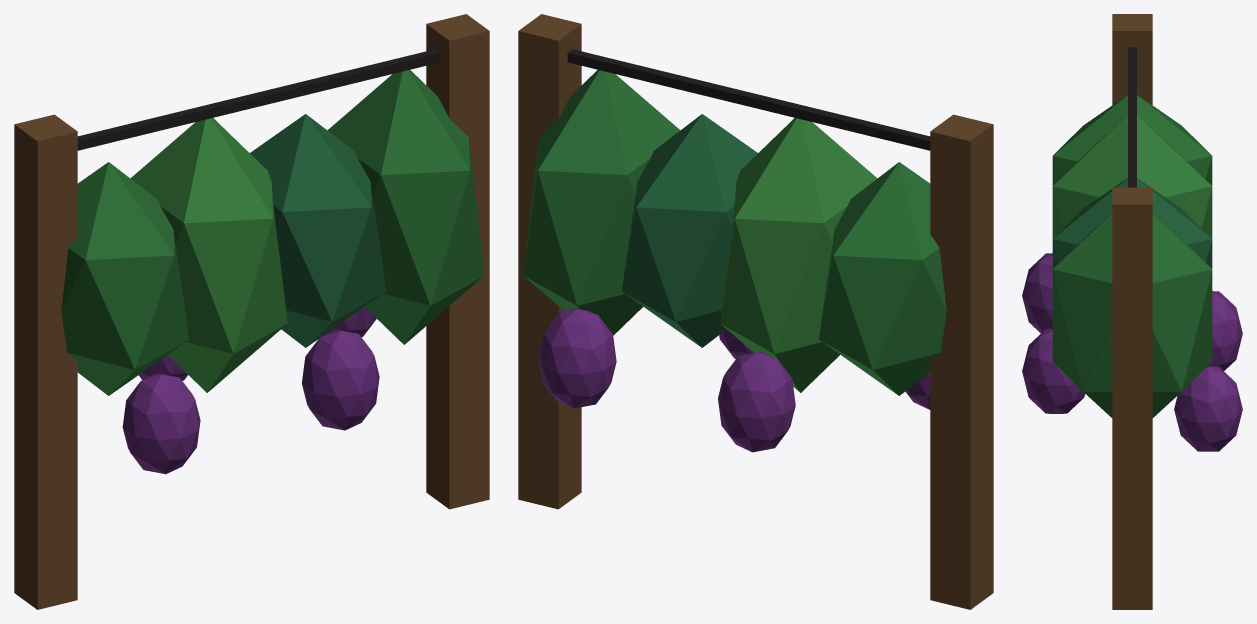
File: vine_row.obj
3 renders of one model, left to right at view 1: azimuth 30°, elevation 25°; view 2: azimuth 150°, elevation 25°; view 3: azimuth 270°, elevation 25°, orthographic. The views are drawn at different scales.
Parts seen in each view (by area): view 1: part_0, part_5, part_7, part_1, part_4, part_6, bunch0, bunch2, part_3, bunch3; view 2: part_0, part_5, part_7, part_4, part_6, part_1, bunch1, bunch3, part_3; view 3: part_7, part_1, part_5, bunch3, part_4, part_6, part_0, bunch2, bunch1, bunch0, part_3.
Part boxes in pixels (<box>): part_0: <box>14,114,77,609</box>; part_5: <box>130,118,287,392</box>; part_7: <box>327,70,484,344</box>; part_1: <box>426,14,489,509</box>; part_4: <box>61,162,188,395</box>; part_6: <box>250,114,385,347</box>; bunch0: <box>122,373,200,474</box>; bunch2: <box>302,329,379,430</box>; part_3: <box>77,49,440,150</box>; bunch3: <box>324,307,376,337</box>; part_0: <box>930,114,993,609</box>; part_5: <box>720,118,877,392</box>; part_7: <box>523,70,680,335</box>; part_4: <box>819,162,946,395</box>; part_6: <box>622,114,757,347</box>; part_1: <box>518,14,581,509</box>; bunch1: <box>718,351,795,452</box>; bunch3: <box>539,308,616,408</box>; part_3: <box>567,49,930,150</box>; part_7: <box>1052,213,1212,417</box>; part_1: <box>1112,187,1152,609</box>; part_5: <box>1052,115,1212,238</box>; bunch3: <box>1174,366,1242,451</box>; part_4: <box>1052,95,1212,185</box>; part_6: <box>1052,178,1212,268</box>; part_0: <box>1112,14,1152,104</box>; bunch2: <box>1022,329,1084,413</box>; bunch1: <box>1207,291,1242,370</box>; bunch0: <box>1022,253,1052,333</box>; part_3: <box>1128,47,1136,187</box>.
Bounding box in the file's own units: 1.01 × 1 × 0.494.
